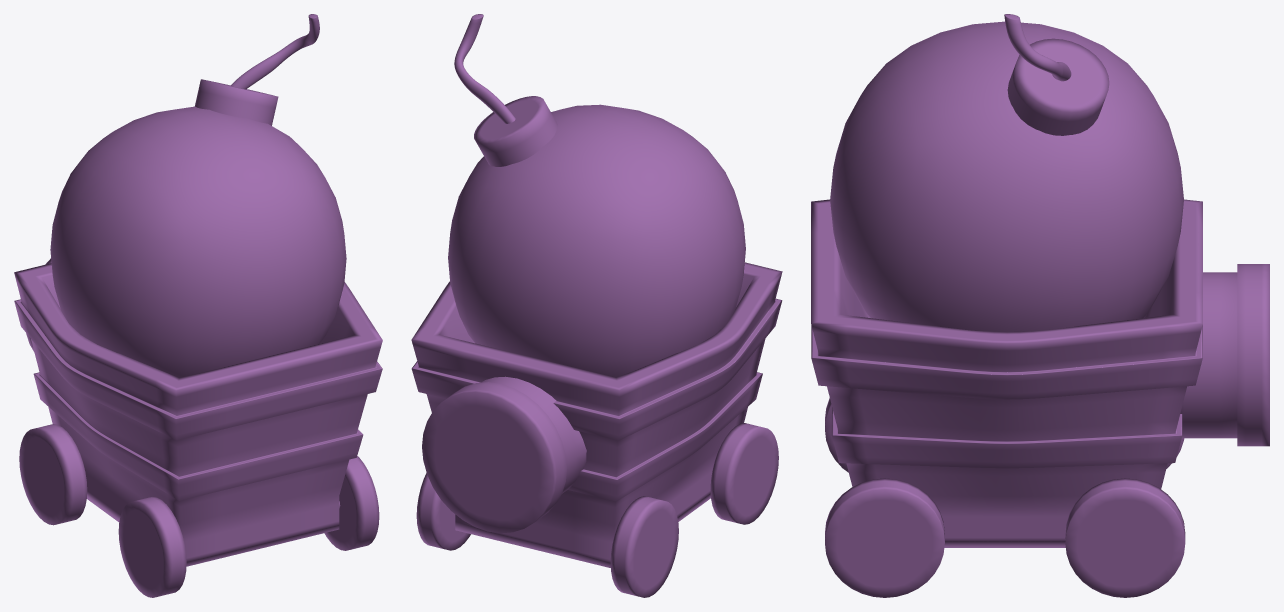
File: Bomber.fbx
3 views of the same model, side by side, from view 1: azimuth 30°, elevation 25°; view 2: azimuth 150°, elevation 25°; view 3: azimuth 270°, elevation 25° (orthographic). The views are drawn at different scales.
Parts seen in each view (by area): view 1: CYLINDER11; view 2: CYLINDER11; view 3: CYLINDER11.
Boxes of the visible parts, x1=… form: CYLINDER11: x1=14, y1=14, x2=382, y2=597; CYLINDER11: x1=411, y1=14, x2=782, y2=597; CYLINDER11: x1=811, y1=14, x2=1269, y2=597.
Size of the model in its own units: 1.01 by 1.71 by 1.21.
